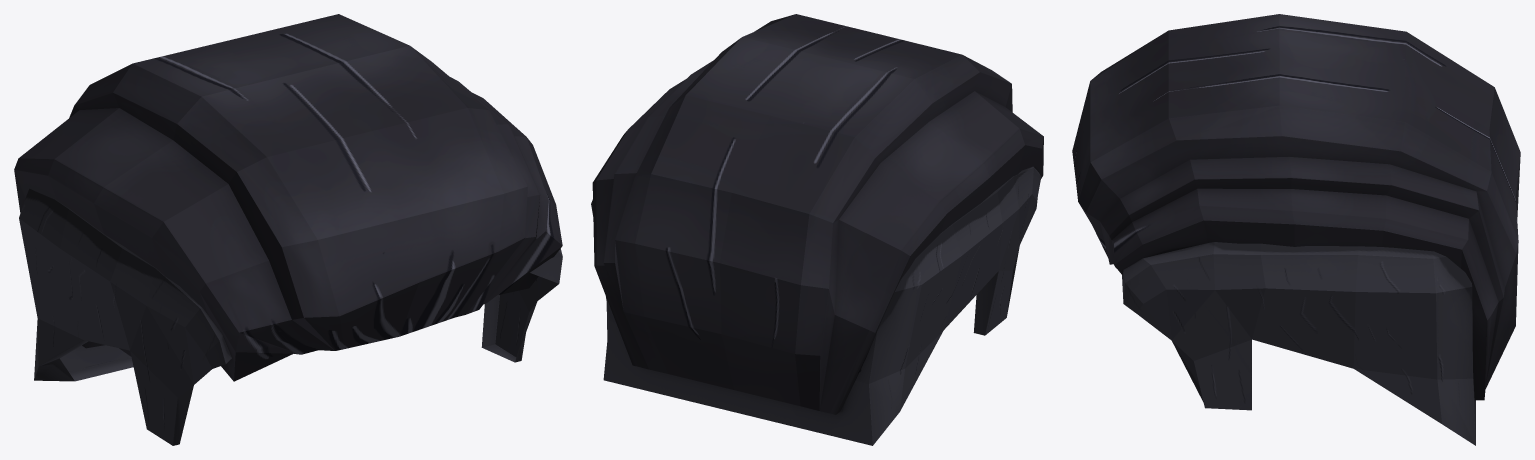
File: Toc.fbx
The picture shows the model from 3 angles, left to right: view 1: azimuth 30°, elevation 25°; view 2: azimuth 150°, elevation 25°; view 3: azimuth 270°, elevation 25°; orthographic projection. The views are drawn at different scales.
Visible parts, largest first — view 1: Toc; view 2: Toc; view 3: Toc.
Boxes of the visible parts, box(x1,y1,x2,y2) form: Toc: box(14, 14, 562, 445); Toc: box(591, 14, 1043, 445); Toc: box(1072, 14, 1520, 445).
Size of the model in its own units: 5.23 by 4.29 by 5.54.
Materials: 1 (1 with a texture image).
